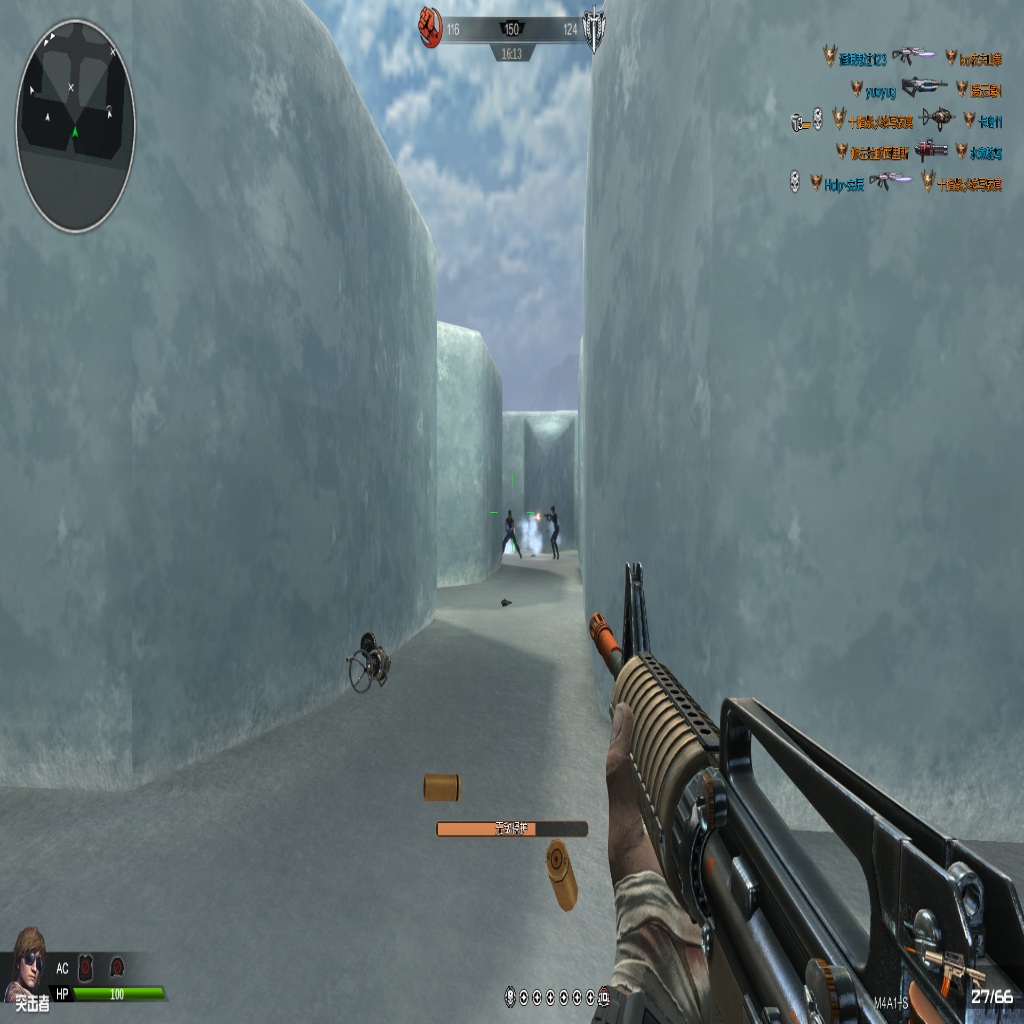ct: (501, 508, 519, 558), (547, 504, 561, 560)
